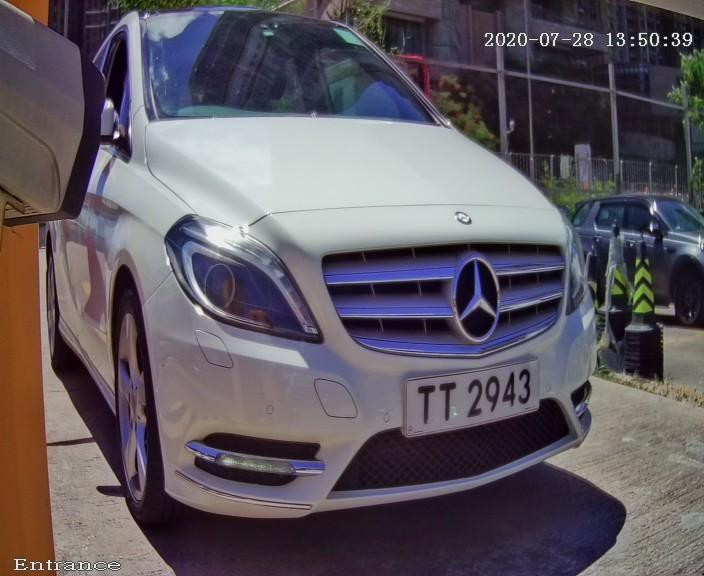privatecar: (45, 24, 645, 553)
